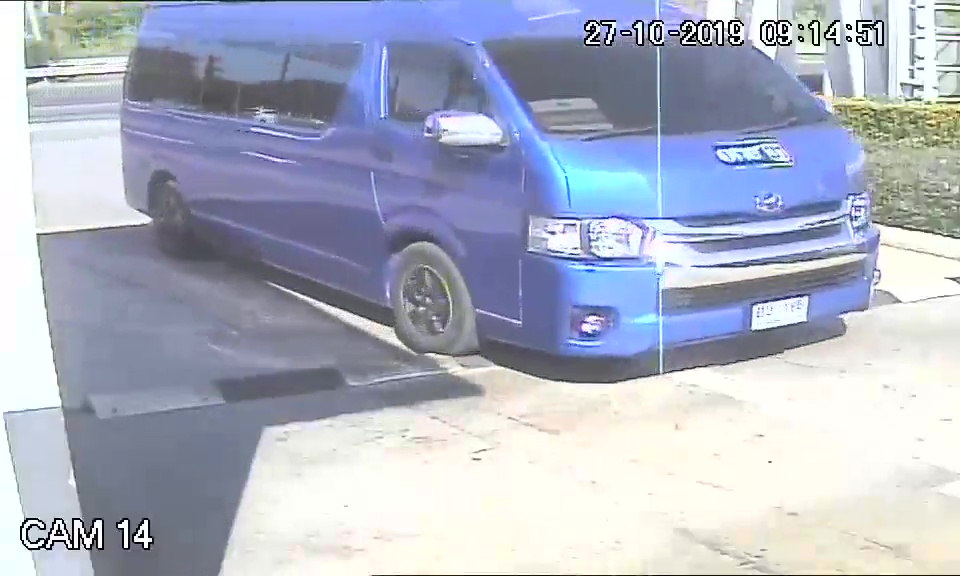van: (111, 3, 887, 375)
